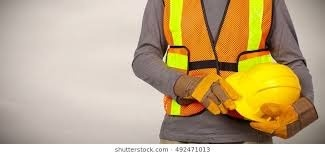helmet: (222, 64, 302, 126)
person with full safety: (130, 1, 313, 144)
safety vest: (163, 3, 268, 117)
